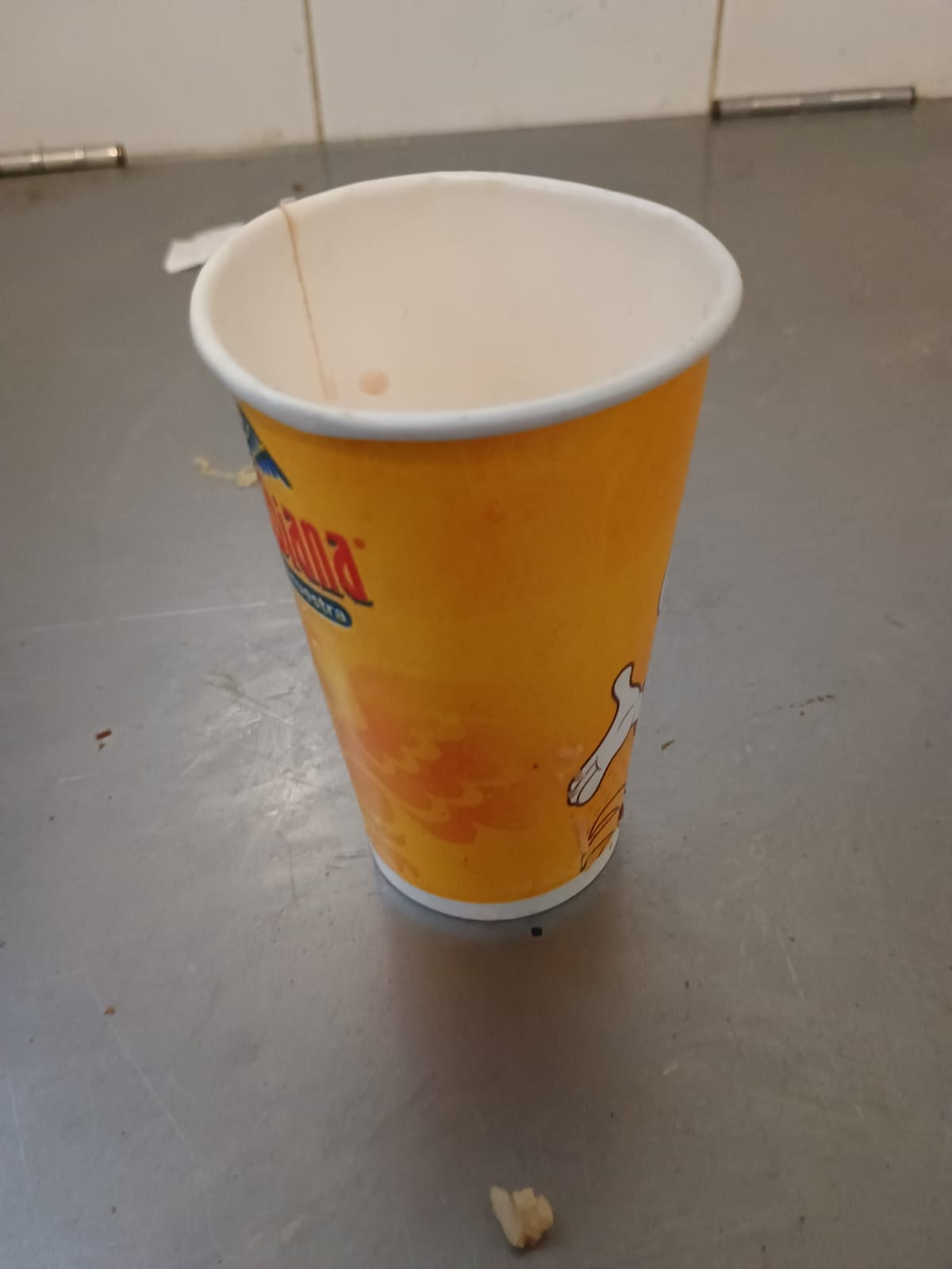Carton: (184, 173, 749, 926)
